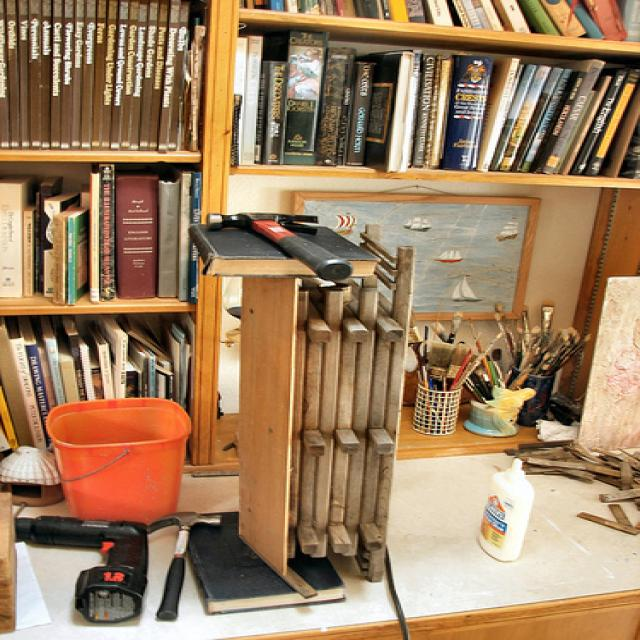hammer: (200, 188, 376, 301)
